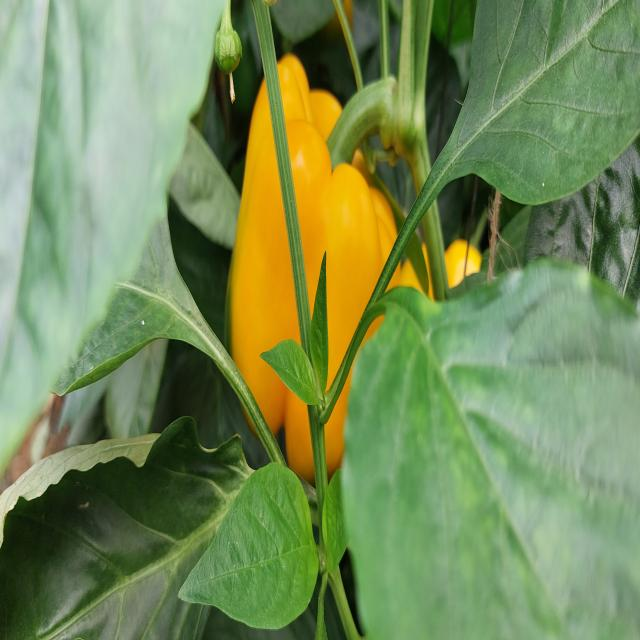Yellow-Ready-to-Harvest: (242, 51, 416, 470)
